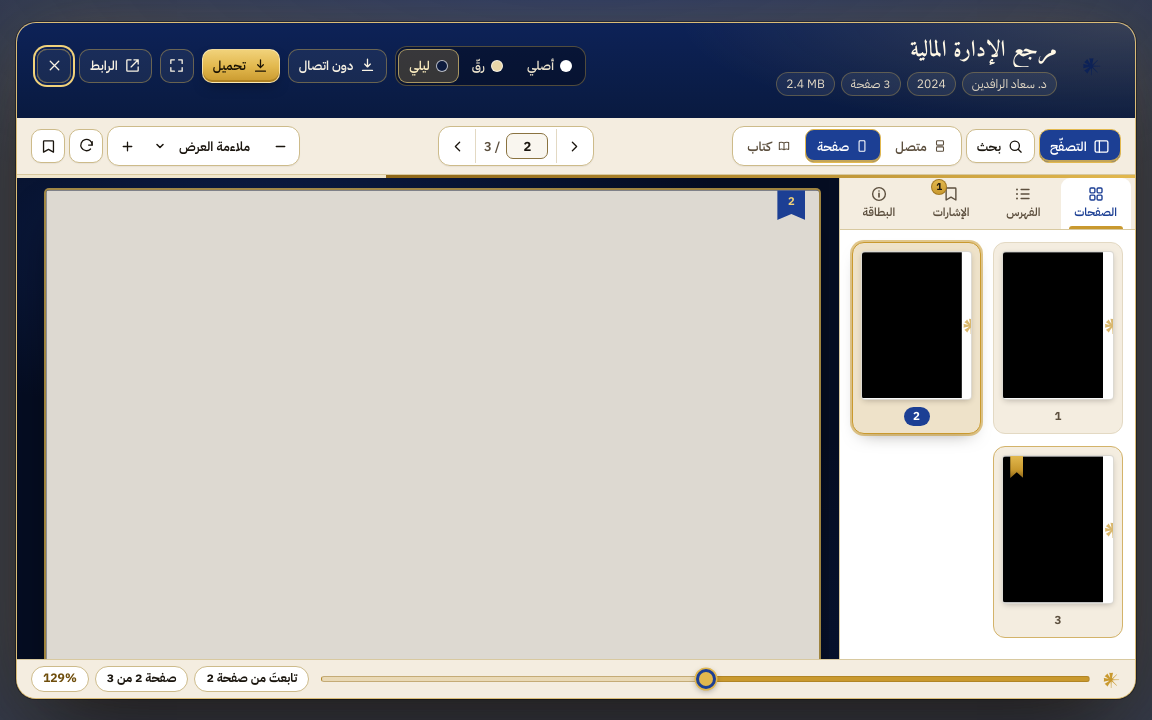
Test case: PdfReaderDialog & self-hosted PDF engine helpers › auto-resumes saved reading state (page, paperMode), manages page bookmarks, and toggles offline PDF cache
(page scrolled)
Expected: the field with test id "pdf-reader-page-input" holds "2", top-left (506, 133), bottom-right (548, 159)
Expected: the button with test id "pdf-resume-notice" is shown, top-left (195, 666), bottom-right (310, 691)
Click the button with test id "pdf-reader-bookmark-toggle".
click(48, 146)  # box top-left (31, 129), bottom-right (65, 163)
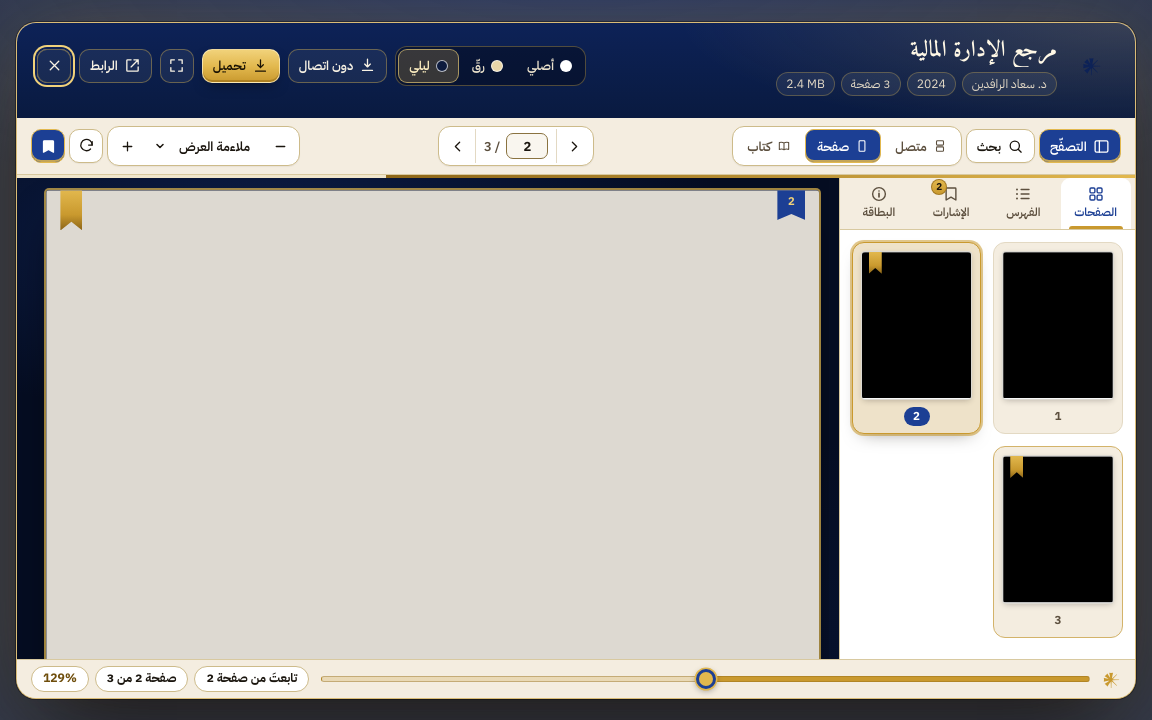
Expected: the button with test id "pdf-reader-bookmark-toggle" is pressed, top-left (31, 129), bottom-right (65, 163)
Click the tab "2 الإشارات".
click(951, 203)  # box top-left (916, 178), bottom-right (986, 228)
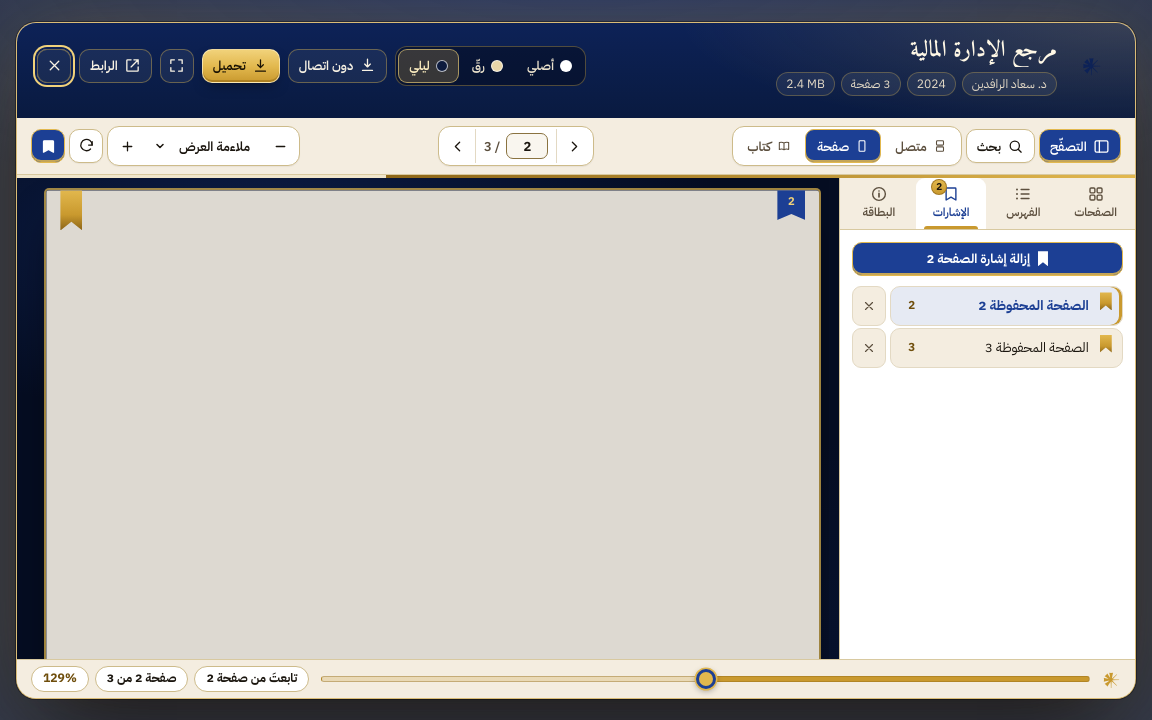
Expected: the button with test id "pdf-bookmark-item-2" is shown, top-left (890, 285), bottom-right (1123, 326)
Expected: the button with test id "pdf-bookmark-item-3" is shown
Jumping to bookmarked page 3 updates current page and persists state
Click the button with test id "pdf-bookmark-item-3".
click(1006, 348)  # box top-left (890, 328), bottom-right (1123, 368)
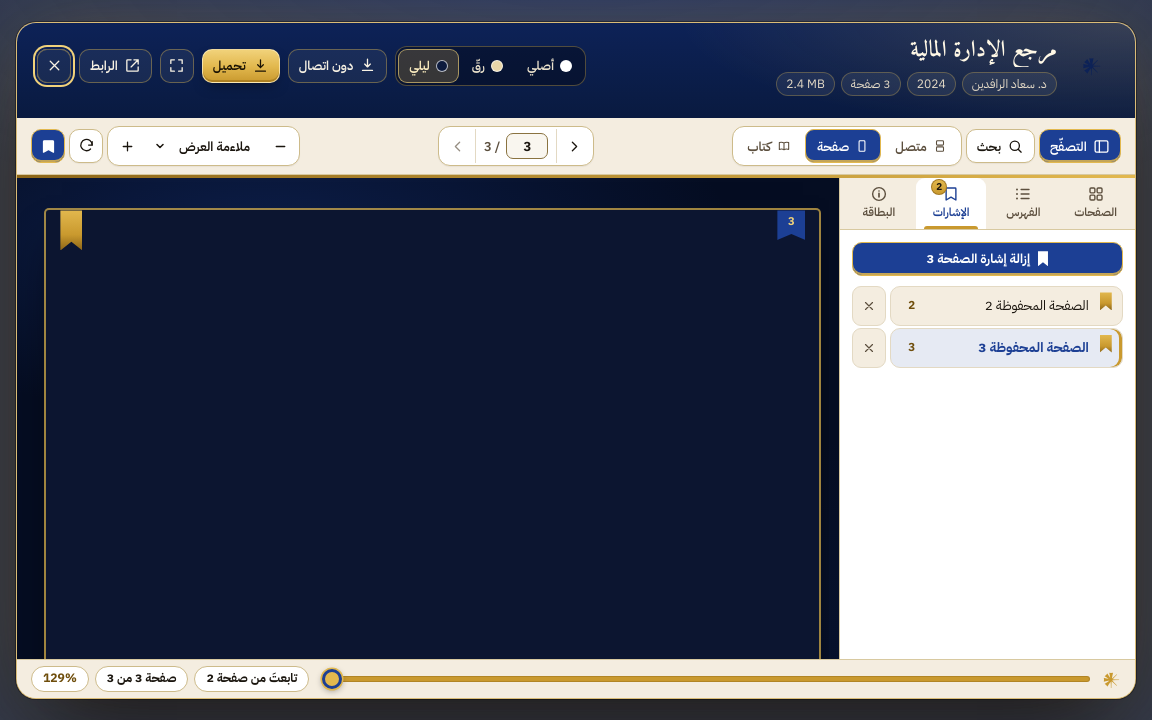
Expected: the field with test id "pdf-reader-page-input" holds "3", top-left (506, 133), bottom-right (548, 159)
Quick-remove button removes bookmark 3 directly from the list
Click the button with test id "pdf-bookmark-remove-3".
click(869, 348)  # box top-left (852, 328), bottom-right (886, 368)
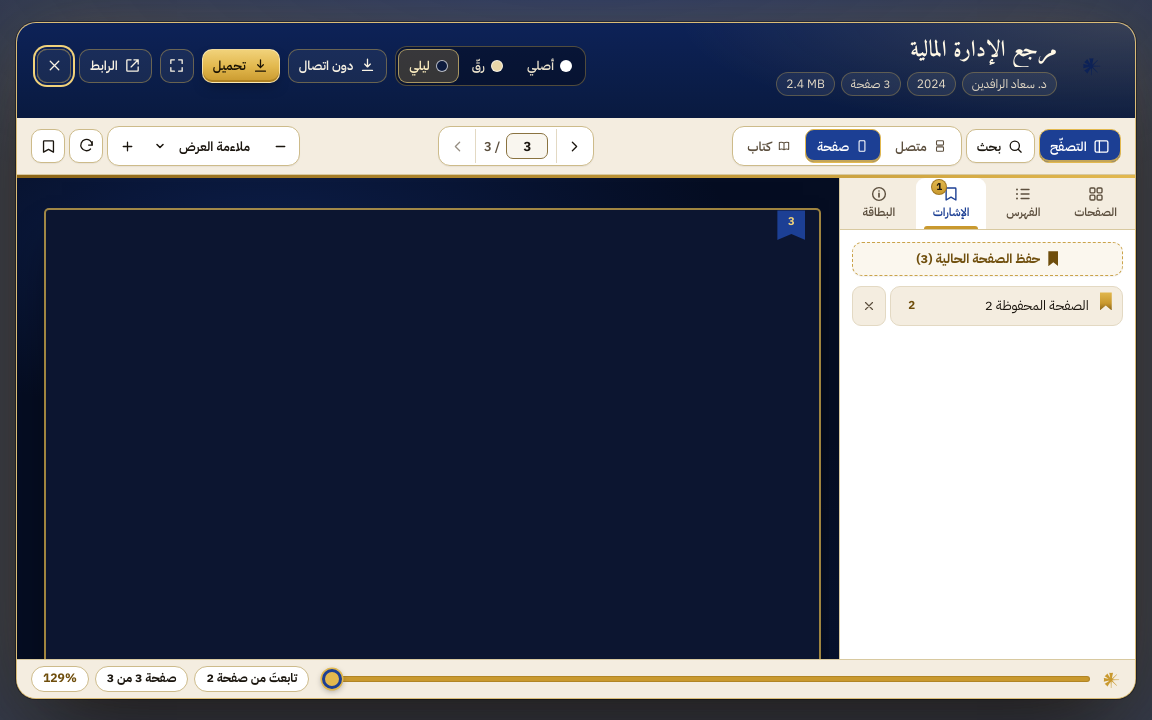
Expected: the button with test id "pdf-bookmark-item-3" is gone
